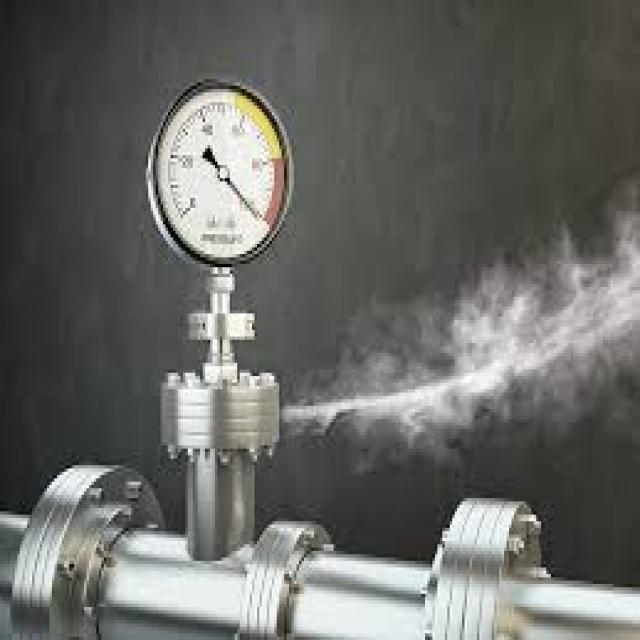corrosion: (250, 344, 450, 548)
